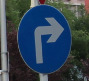right_turn: (17, 4, 72, 73)
